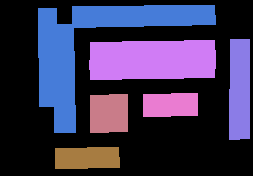parkingspot: (72, 5, 215, 27), (90, 40, 215, 62), (89, 59, 215, 79), (54, 24, 75, 132), (229, 39, 249, 139), (38, 8, 56, 106), (55, 147, 119, 168), (143, 93, 197, 116), (90, 94, 127, 114), (90, 112, 127, 132)
